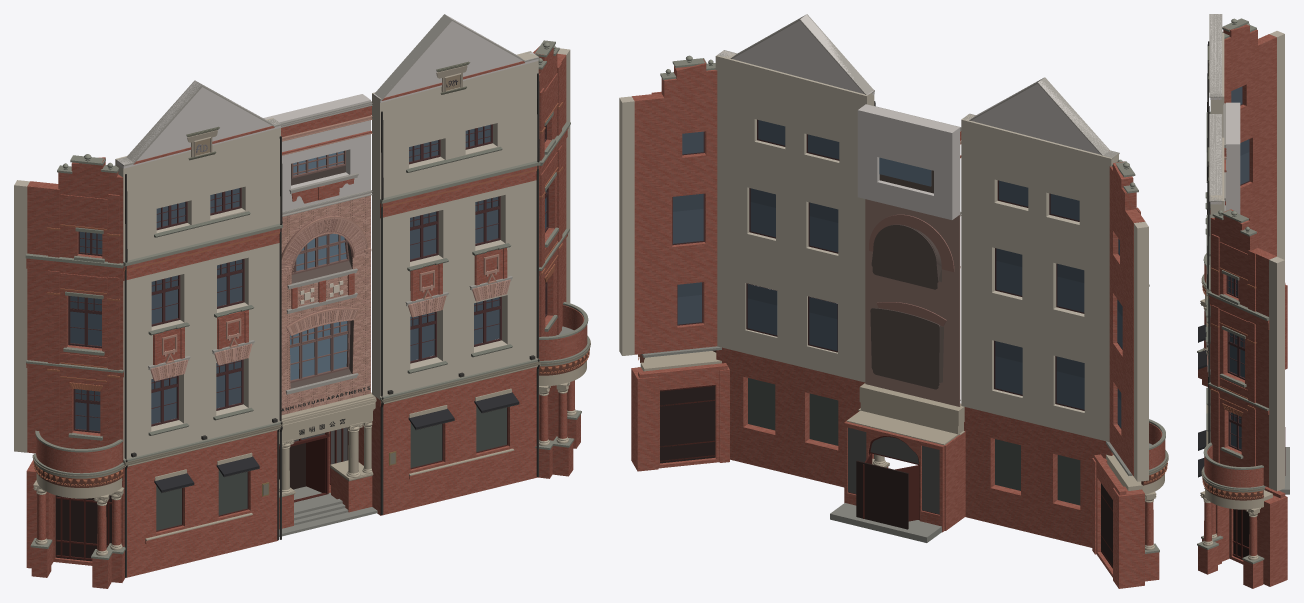
File: huangpu-yuanmingyuan-apartments-street-front-raw.glb
The picture shows the model from 3 angles, left to right: view 1: azimuth 30°, elevation 25°; view 2: azimuth 150°, elevation 25°; view 3: azimuth 270°, elevation 25°; orthographic projection. The views are drawn at different scales.
Visible parts, largest first — view 1: 圆明园公寓东立面与切角柱廊; view 2: 圆明园公寓东立面与切角柱廊; view 3: 圆明园公寓东立面与切角柱廊.
Boxes of the visible parts, bbox=[...] form: 圆明园公寓东立面与切角柱廊: bbox=[14, 14, 590, 588]; 圆明园公寓东立面与切角柱廊: bbox=[619, 14, 1168, 588]; 圆明园公寓东立面与切角柱廊: bbox=[1197, 14, 1289, 588].
Bounding box in the file's own units: 31.42 × 25.89 × 5.3.
Materials: 45 (1 with a texture image).
